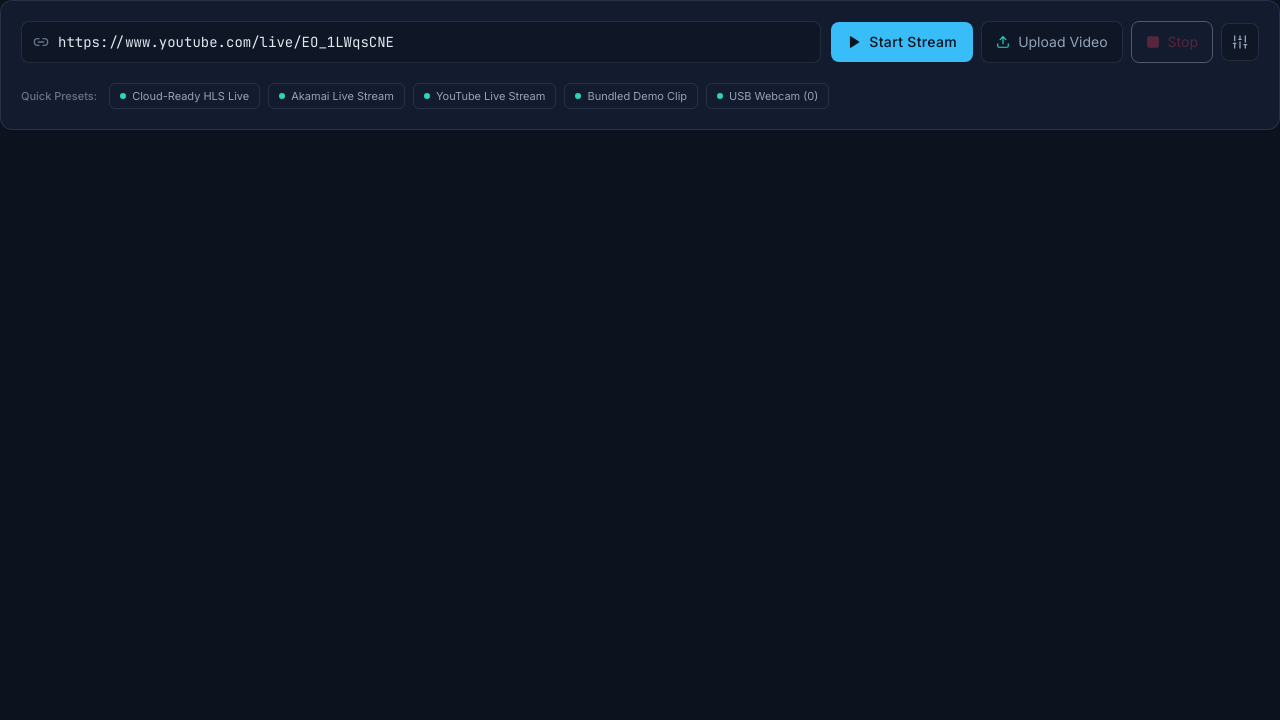
Scenario: ControlBar Component › provides a functional Verify Key button for Gemini credentials
The image size is (1280, 720).
What coordinates should you click on to do the following:
click the button titled "Toggle advanced tuning parameters"
I would click on:
 (1240, 42)
Its box is [1221, 23, 1259, 61].
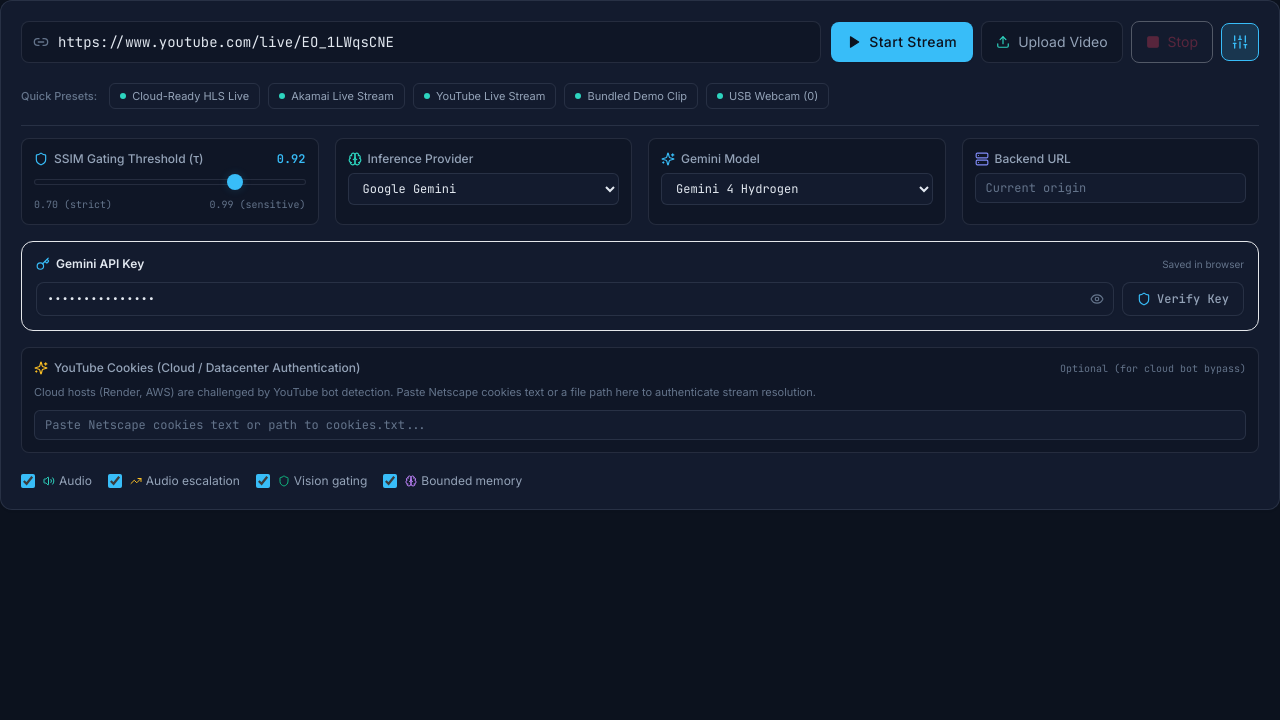
Check: the button with id "btnVerifyKey" is enabled, box [1122, 282, 1244, 316]
